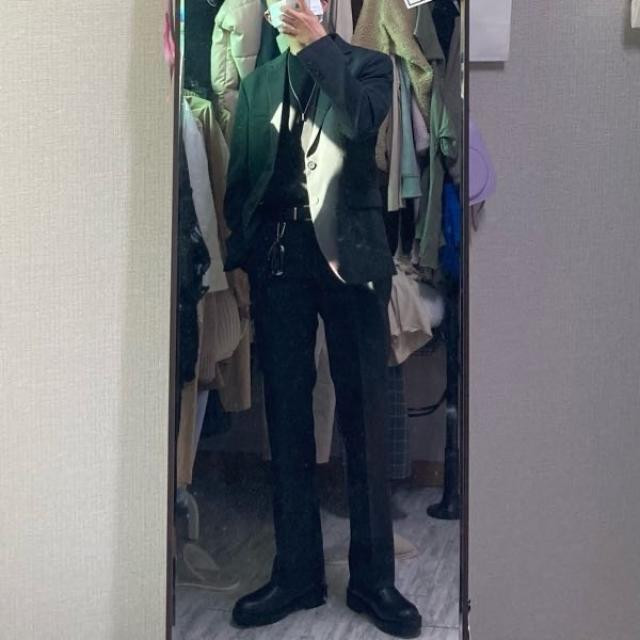blazer: (220, 32, 396, 305)
slacks: (256, 201, 394, 595)
